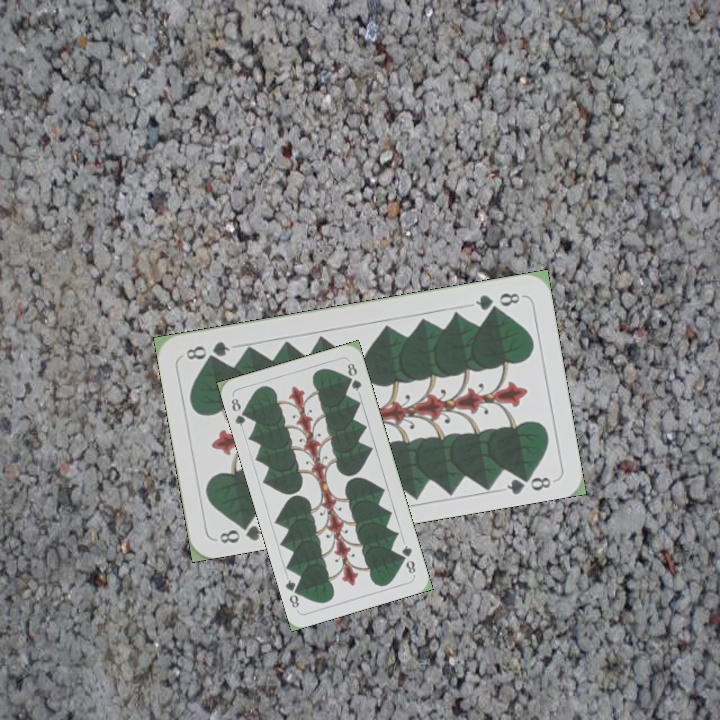G8: (215, 516, 266, 546), (471, 288, 526, 314), (227, 394, 251, 429), (397, 541, 418, 578)
